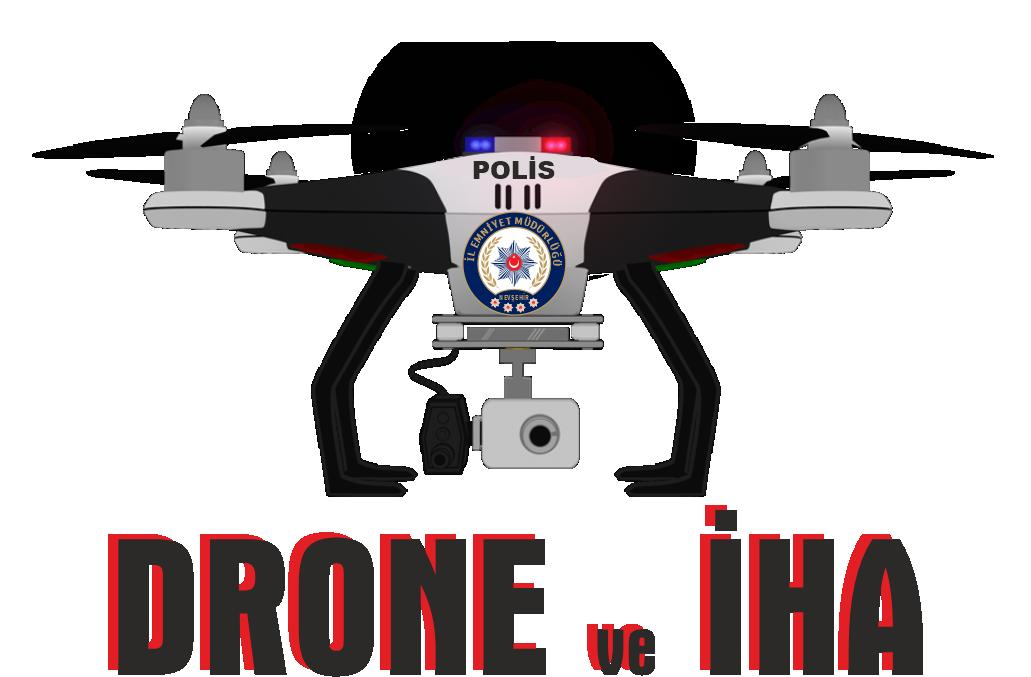drone: (33, 90, 1022, 424)
